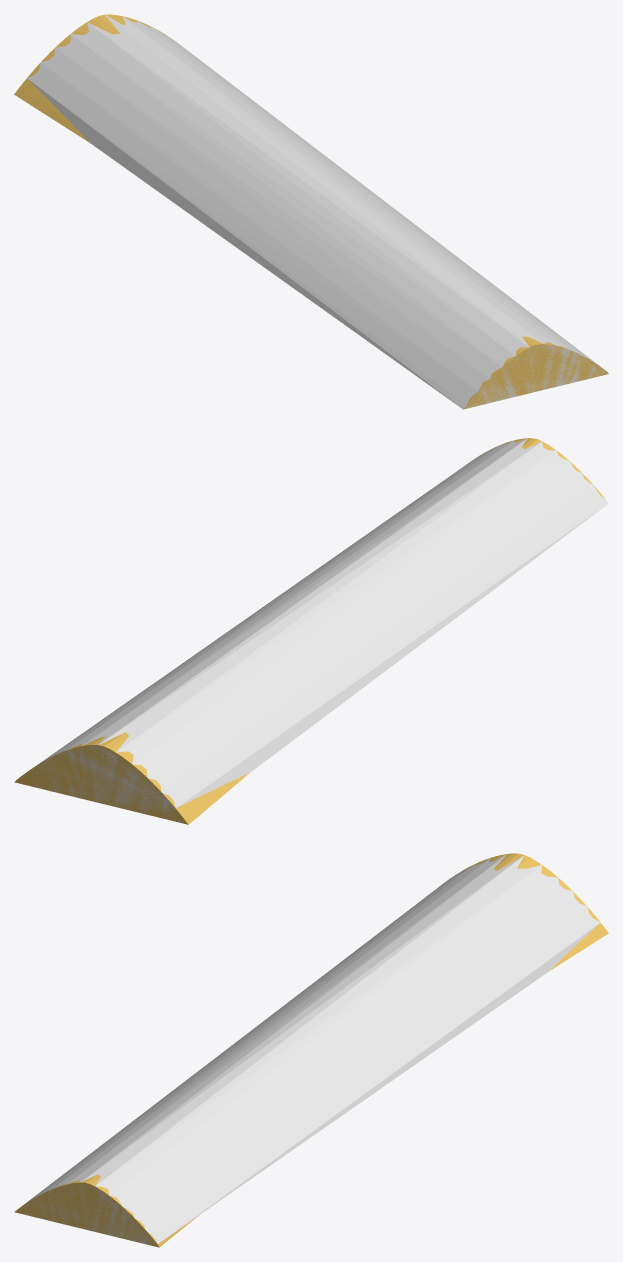
Rendered from fuel_saddle.fbx.
The picture shows the model from 3 angles, top to bottom: view 1: azimuth 30°, elevation 25°; view 2: azimuth 150°, elevation 25°; view 3: azimuth 330°, elevation 25°; orthographic projection.
Visible parts, largest first — view 1: fuel_saddle_colmesh0, fuel_saddle; view 2: fuel_saddle_colmesh0, fuel_saddle; view 3: fuel_saddle_colmesh0, fuel_saddle.
Part boxes in pixels (x1,y1,x2,y2): fuel_saddle_colmesh0: (27, 15, 606, 409); fuel_saddle: (14, 14, 608, 409); fuel_saddle_colmesh0: (20, 438, 608, 821); fuel_saddle: (14, 438, 604, 824); fuel_saddle_colmesh0: (18, 854, 600, 1244); fuel_saddle: (14, 853, 608, 1247).
Size of what is drawn, in the model's own units: 0.6151 by 0.1943 by 2.65.
